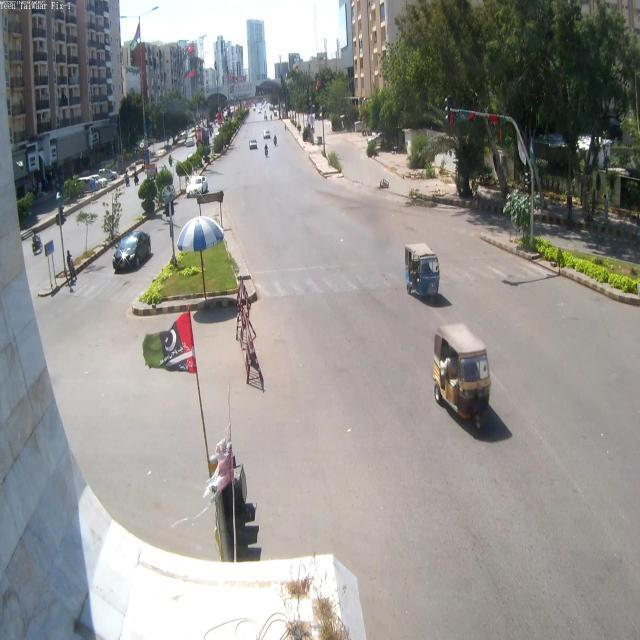car: (113, 229, 151, 273), (184, 172, 208, 204), (247, 136, 258, 151), (263, 127, 270, 140)
motorbike: (430, 323, 496, 438), (403, 243, 442, 303), (273, 134, 279, 149), (264, 143, 269, 159)
